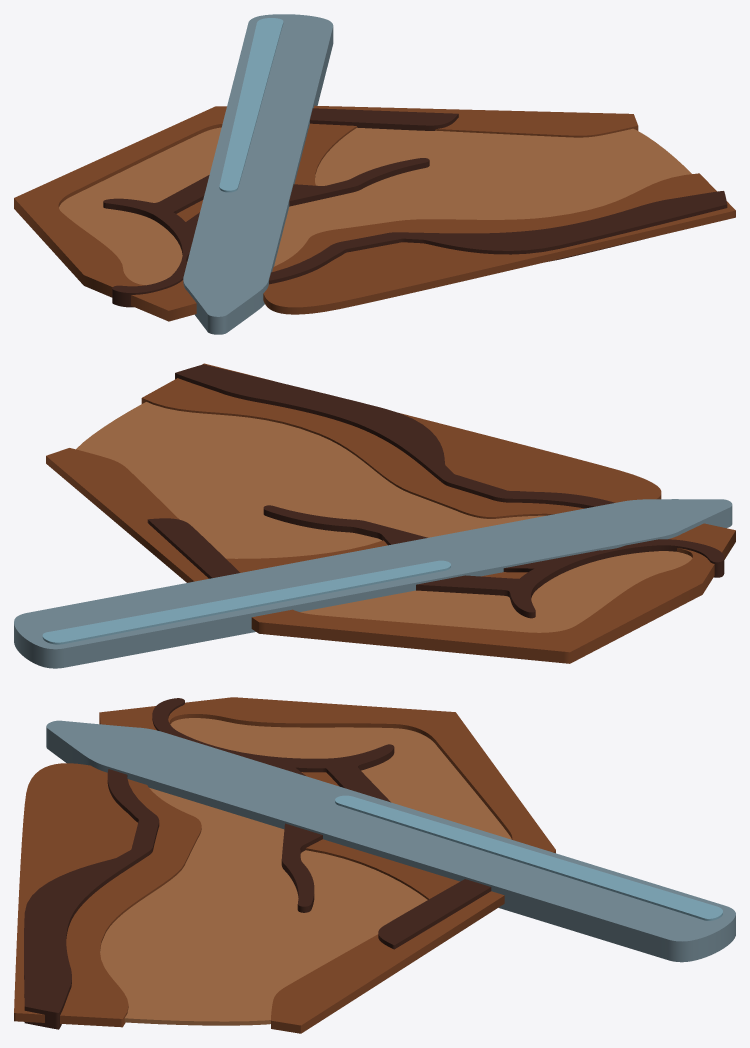
Rendered from emoji_u270d_1f3fe.glb.
3 views of the same model, one above another, from view 1: azimuth 30°, elevation 25°; view 2: azimuth 150°, elevation 25°; view 3: azimuth 270°, elevation 25° (orthographic). The views are drawn at different scales.
Parts seen in each view (by area): view 1: emoji_u270d_1f3fe; view 2: emoji_u270d_1f3fe; view 3: emoji_u270d_1f3fe.
Boxes of the visible parts, left/top/right/bottom form: emoji_u270d_1f3fe: left=14, top=14, right=735, bottom=334; emoji_u270d_1f3fe: left=14, top=363, right=735, bottom=668; emoji_u270d_1f3fe: left=14, top=697, right=735, bottom=1033.
Bounding box in the file's own units: 0.0338 × 0.0012 × 0.0316.
